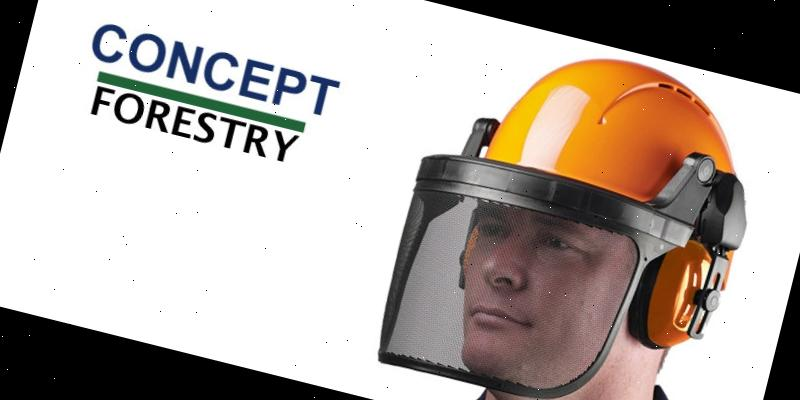helmet: (481, 29, 789, 244)
